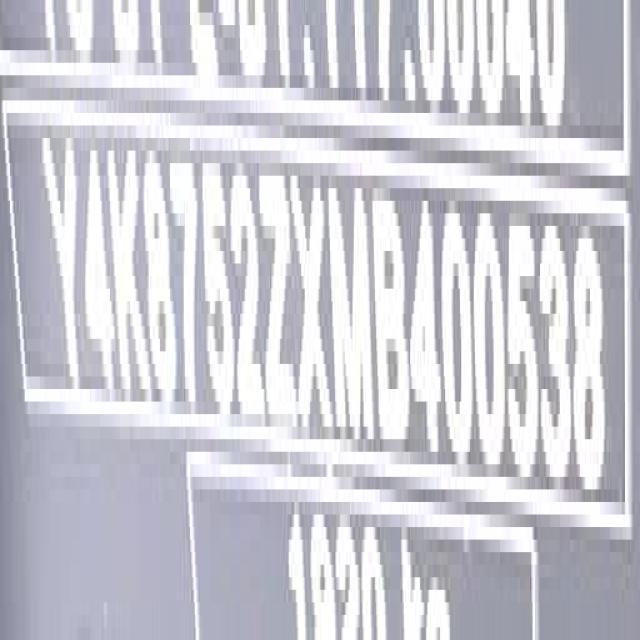0: (439, 191, 474, 488), (471, 195, 507, 474)
2: (226, 158, 265, 437)
3: (538, 218, 572, 502)
4: (80, 125, 116, 423), (408, 200, 442, 479)
5: (199, 130, 236, 446), (506, 204, 539, 483)
7: (170, 139, 204, 409)
8: (573, 218, 607, 512), (144, 148, 177, 428)
B: (372, 172, 411, 460)
K: (107, 116, 150, 409)
M: (329, 172, 376, 455)
X: (290, 158, 335, 437)
Y: (41, 121, 82, 414)
Z: (259, 158, 298, 432)
